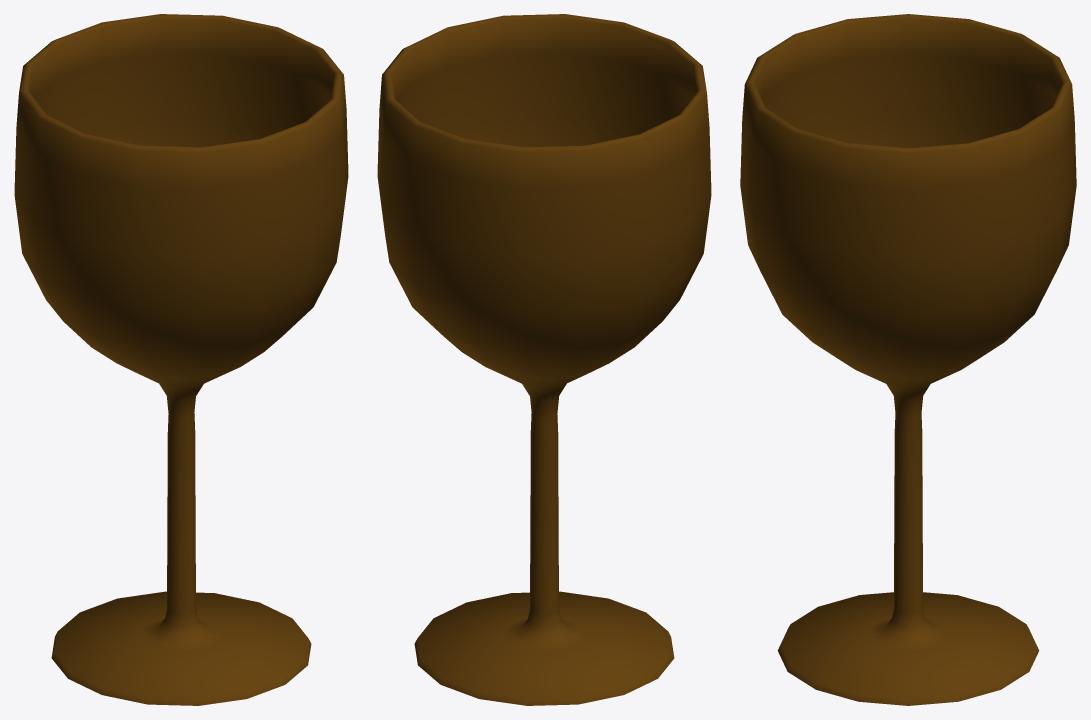
Rendered from Bicchiere1.FBX.
3 views of the same model, side by side, from view 1: azimuth 30°, elevation 25°; view 2: azimuth 150°, elevation 25°; view 3: azimuth 270°, elevation 25° (orthographic).
Visible parts, largest first — view 1: Bicchiere1; view 2: Bicchiere1; view 3: Bicchiere1.
Boxes of the visible parts, <box> form: Bicchiere1: <box>14,14,348,705</box>; Bicchiere1: <box>377,14,711,705</box>; Bicchiere1: <box>740,14,1076,705</box>.
Size of the model in its own units: 8.36 by 15.62 by 8.36.
